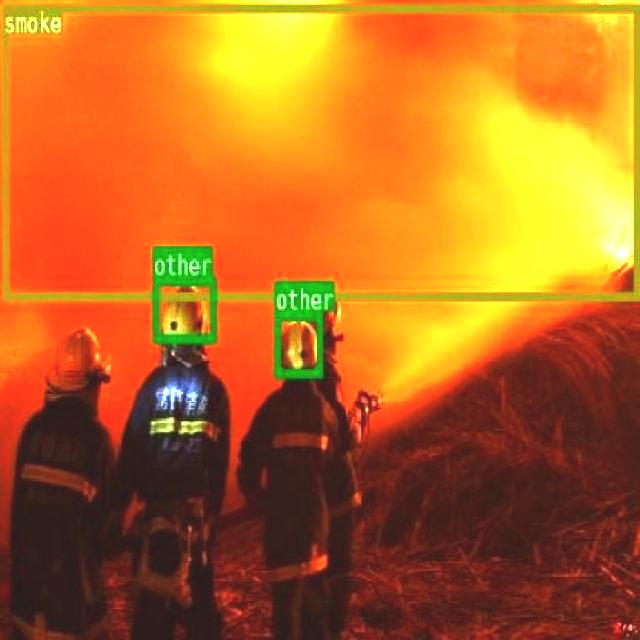smoke: (2, 2, 638, 298)
